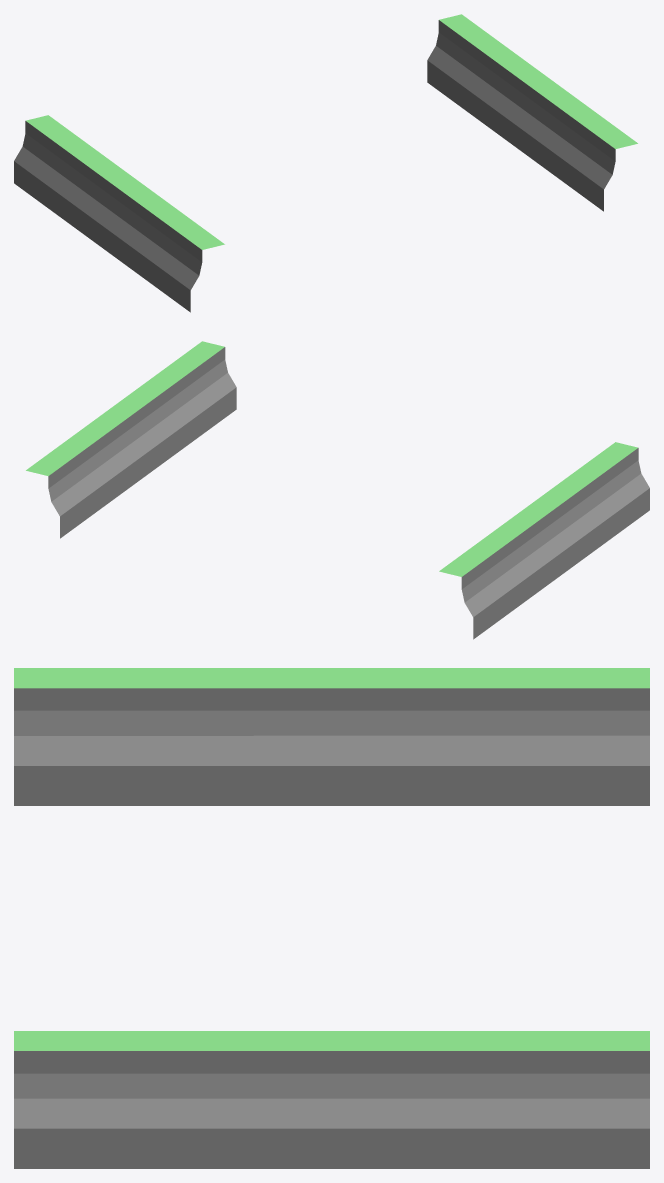
Rendered from sylentemple_ent_stair02.gltf.
3 renders of one model, top to bottom at view 1: azimuth 30°, elevation 25°; view 2: azimuth 150°, elevation 25°; view 3: azimuth 270°, elevation 25°, orthographic. The views are drawn at different scales.
Parts seen in each view (by area): view 1: sylentemple_ent_stair02; view 2: sylentemple_ent_stair02; view 3: sylentemple_ent_stair02.
Part boxes in pixels (bbox=[...]): sylentemple_ent_stair02: bbox=[14, 14, 637, 312]; sylentemple_ent_stair02: bbox=[26, 341, 649, 639]; sylentemple_ent_stair02: bbox=[14, 668, 649, 1168].
Bounding box in the file's own units: 3.84 × 0.4782 × 2.56.
